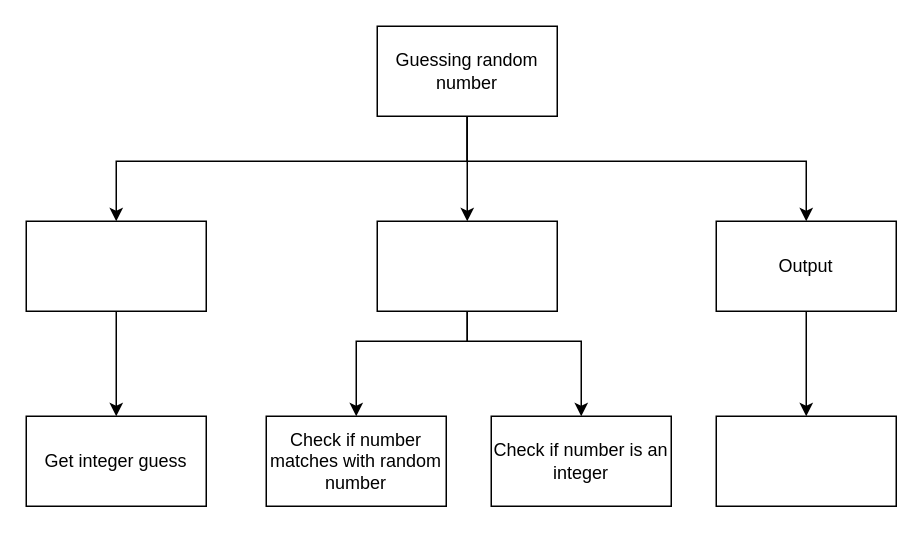
The diagram is 923 pixels wide and 533 high, and some of its shapes have lost their labels. Each missing label, with the centre of its shape:
Input: the point at 115,265
Process: the point at 466,265
Show whether guess was right or wrong: the point at 805,460
